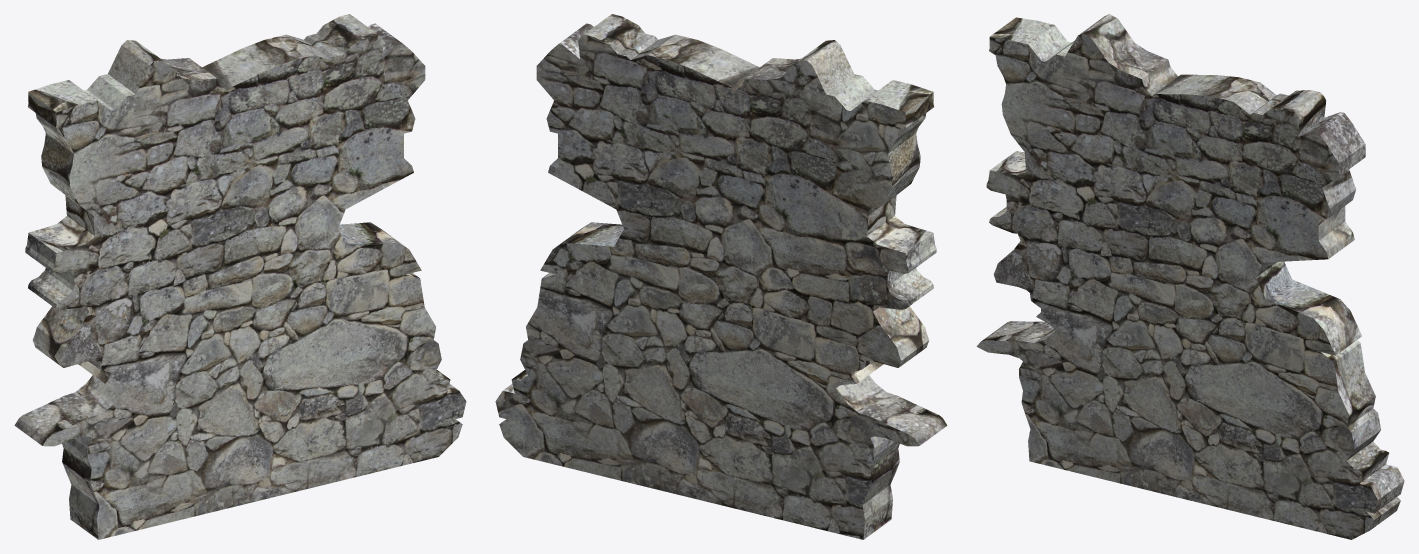
Rendered from ruinwall4.FBX.
The picture shows the model from 3 angles, left to right: view 1: azimuth 30°, elevation 25°; view 2: azimuth 150°, elevation 25°; view 3: azimuth 330°, elevation 25°; orthographic projection. The views are drawn at different scales.
Visible parts, largest first — view 1: Mesh4; view 2: Mesh4; view 3: Mesh4.
Part boxes in pixels (x1=…): Mesh4: x1=14, y1=14, x2=466, y2=539; Mesh4: x1=495, y1=14, x2=947, y2=539; Mesh4: x1=976, y1=14, x2=1404, y2=539.
Bounding box in the file's own units: 17.79 × 18.67 × 2.04.
